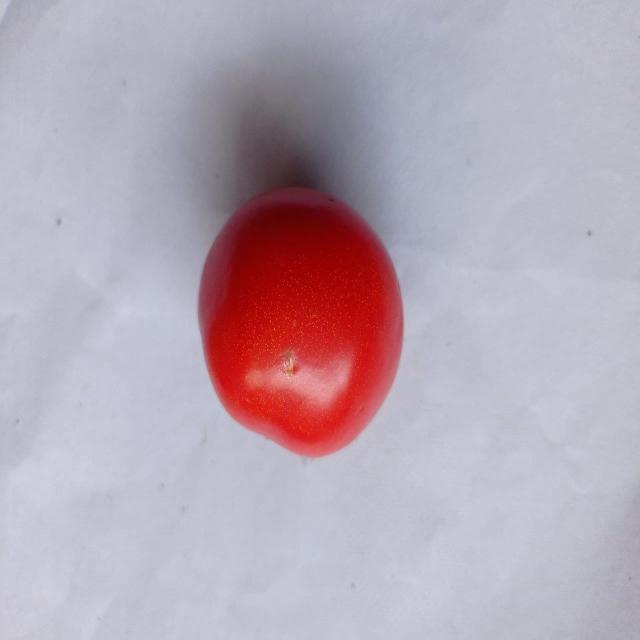Tomato: (195, 178, 406, 462)
